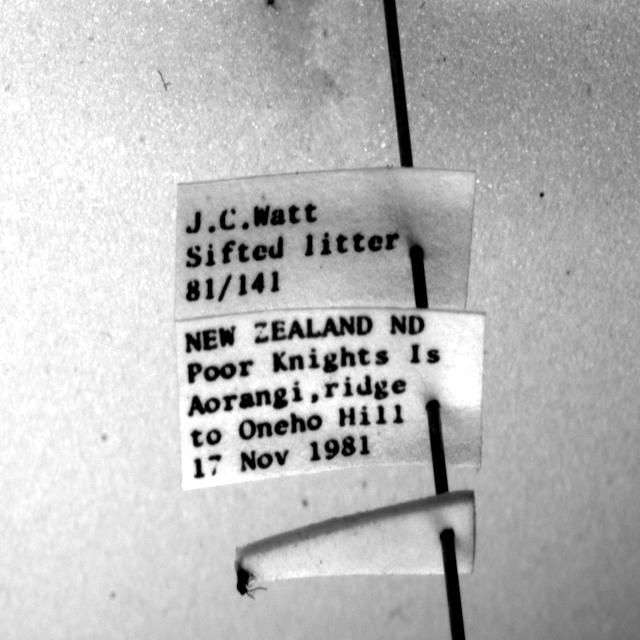typed_label: (176, 309, 484, 489), (175, 167, 475, 321)
